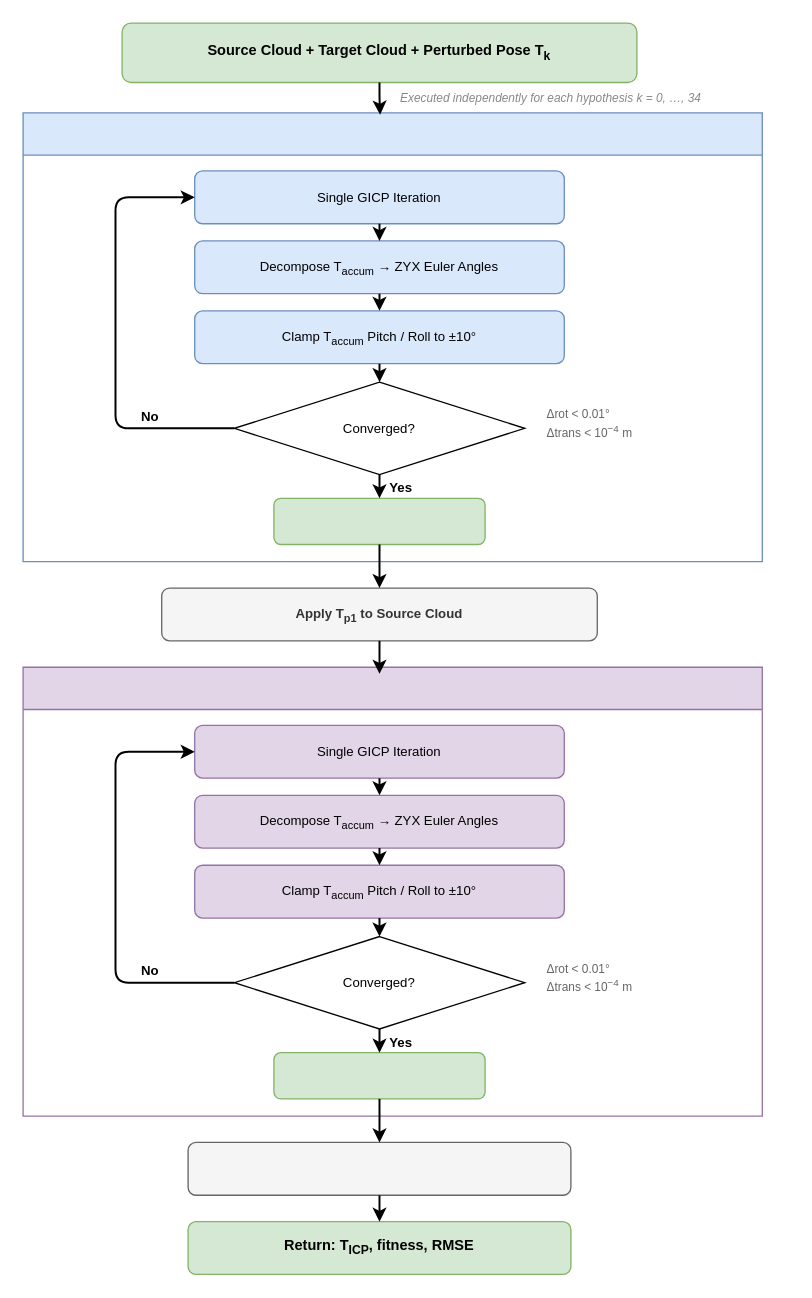
This 812x1298 diagram has some shape labels left out. The box of each missing label's shape, as (x1, y1, x2, y2) in pixels:
Phase 1 — Broad Alignment (Huber, k 1 = 1.5 m, max 30 iter): (22, 112, 762, 562)
Phase 2 — Precision Refinement (Cauchy, k 2 = 0.5 m, max 20 iter): (22, 666, 762, 1116)
T ICP = T p2 · T p1: (187, 1141, 571, 1195)
T p1 converged: (273, 497, 485, 544)
T p2 converged: (273, 1051, 485, 1099)
